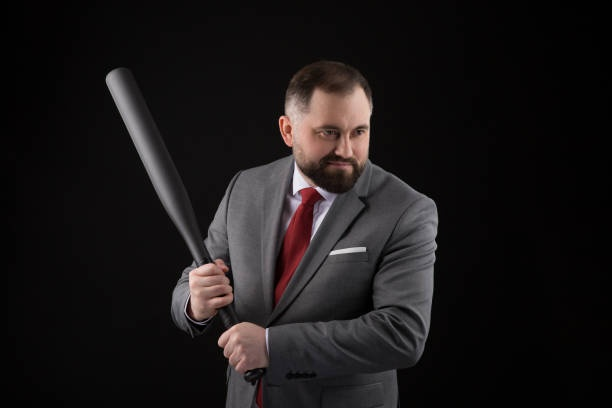bita: (104, 68, 238, 336)
